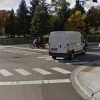crosswalk: (12, 50, 87, 64), (0, 66, 71, 76)
